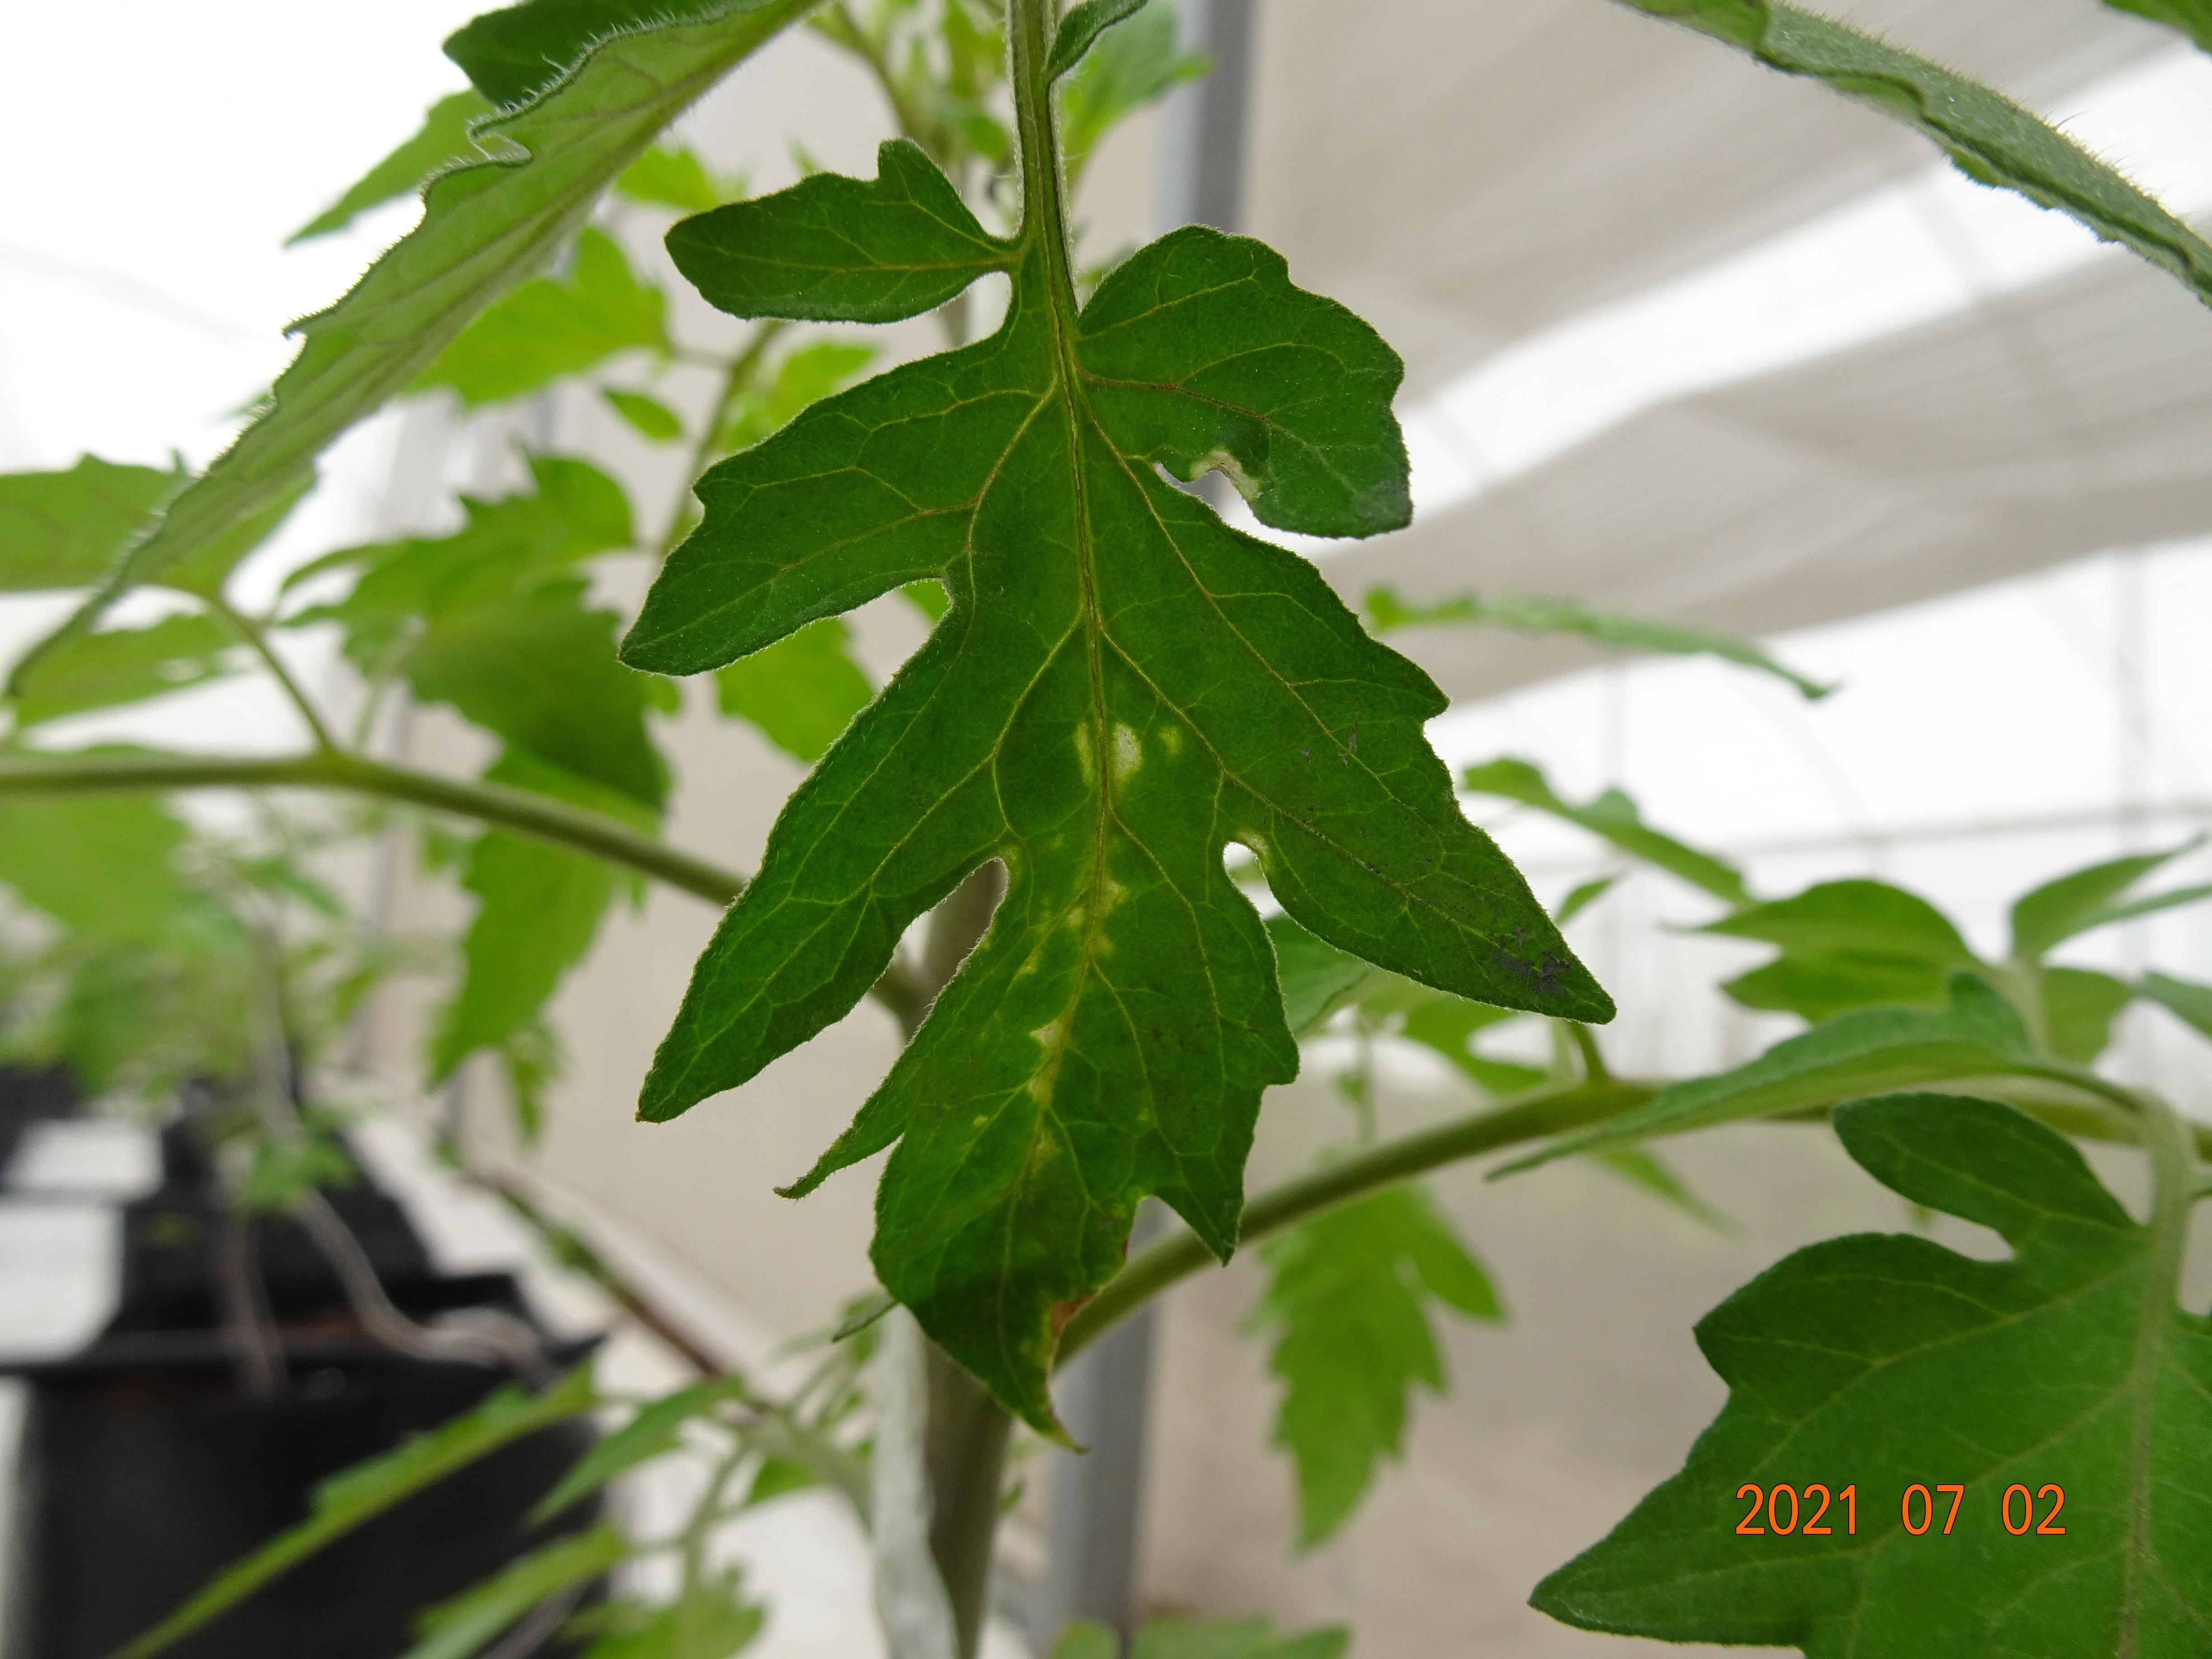Rugose leaf: (613, 146, 1620, 1450)
